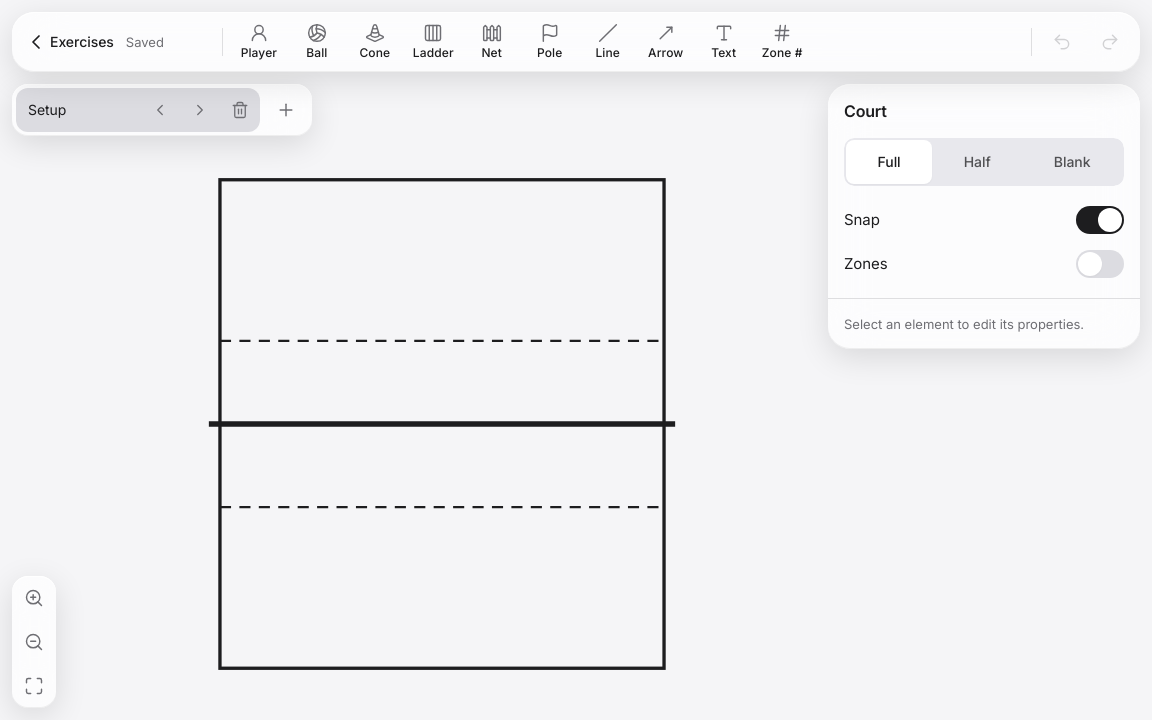
DiagramEditorPage › flushes an unsaved change to saveDiagramSet when the editor unmounts
Expected: the field showing "Setup" is shown, x1=28 y1=88 x2=140 y2=132
Click the button "Ball" at (317, 42), box x1=289 y1=18 x2=345 y2=66
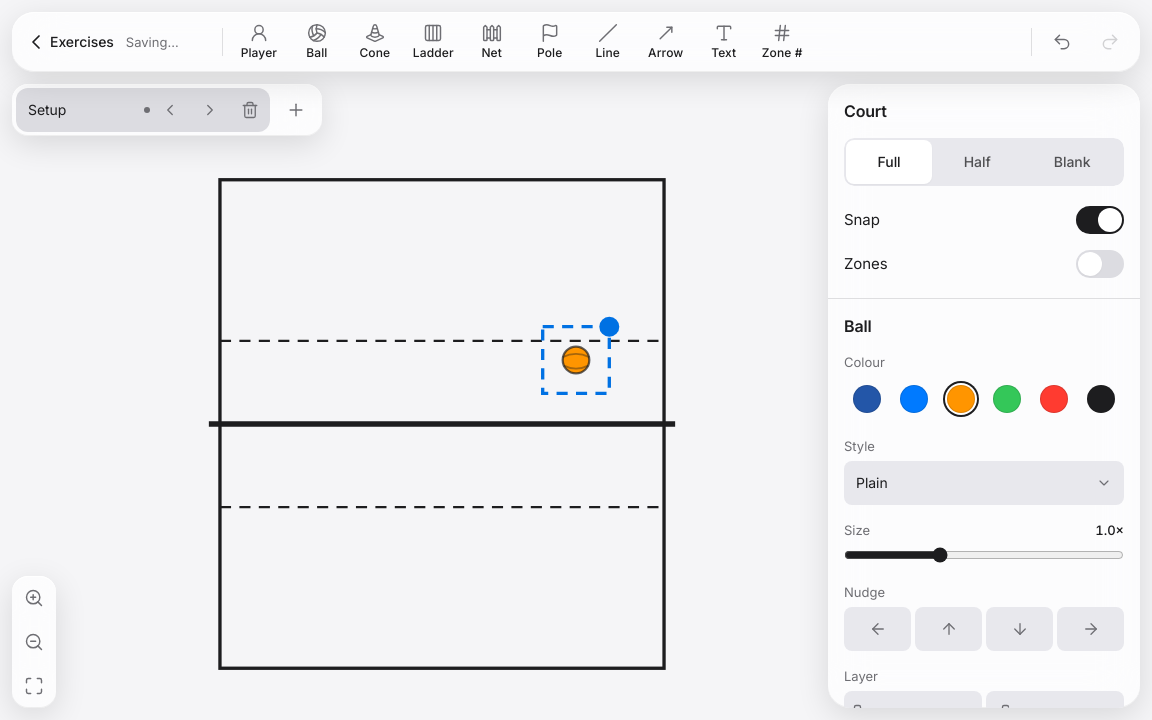
Now the text "Saving…" is shown, box x1=126 y1=33 x2=179 y2=51
